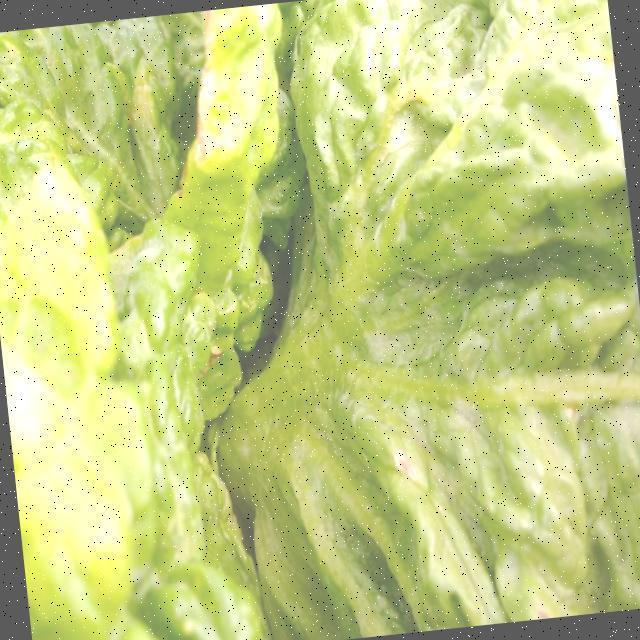Powdery_mildew_on_lettuce: (293, 260, 595, 567)
